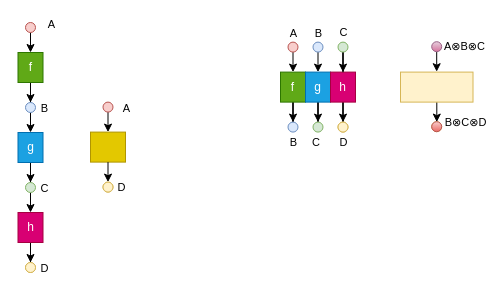
The diagram is 503 pixels wide and 298 high, and some of its shapes have lost their labels. The box of each missing label's shape, as (x1, y1, x2, y2) in pixels:
f ⊗ g ⊗ h: (400, 71, 473, 102)
h∘g∘f: (90, 131, 126, 162)
